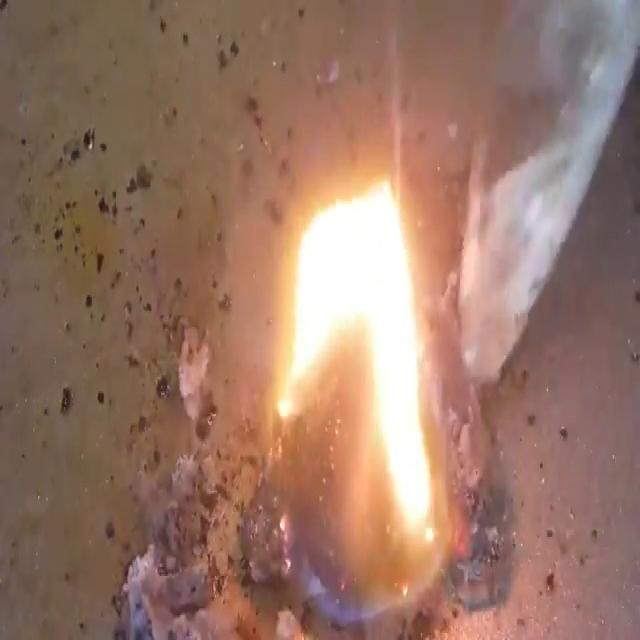Fire: (4, 4, 637, 636), (274, 173, 440, 551)
